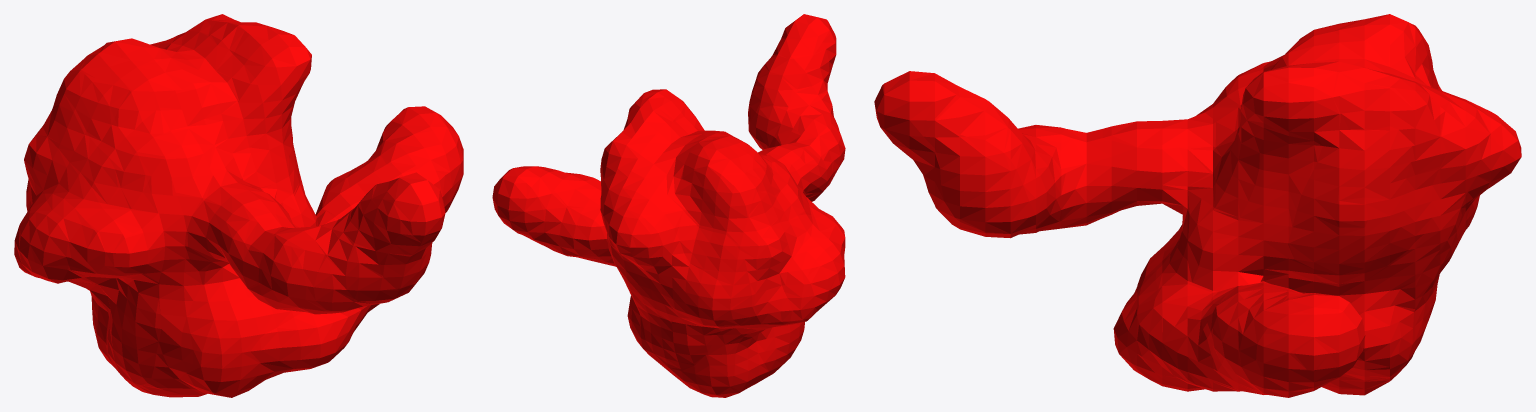
File: surE_coarse.dae
3 renders of one model, left to right at view 1: azimuth 30°, elevation 25°; view 2: azimuth 150°, elevation 25°; view 3: azimuth 270°, elevation 25°, orthographic. The views are drawn at different scales.
Visible parts, largest first — view 1: surE; view 2: surE; view 3: surE.
Boxes of the visible parts, x1=… form: surE: x1=14, y1=14, x2=463, y2=397; surE: x1=492, y1=14, x2=845, y2=397; surE: x1=874, y1=14, x2=1521, y2=397.
Size of the model in its own units: 68.19 by 50.44 by 78.17.
